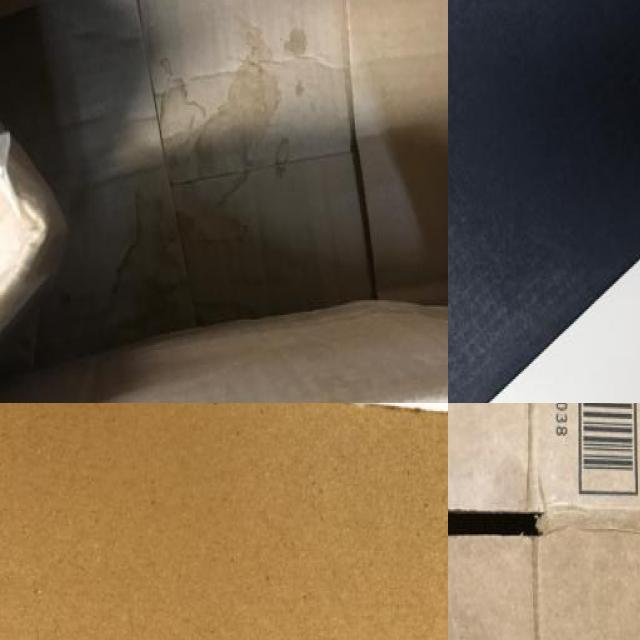class_name: (0, 0, 448, 403), (0, 403, 448, 640), (448, 0, 640, 403), (448, 403, 640, 640)
